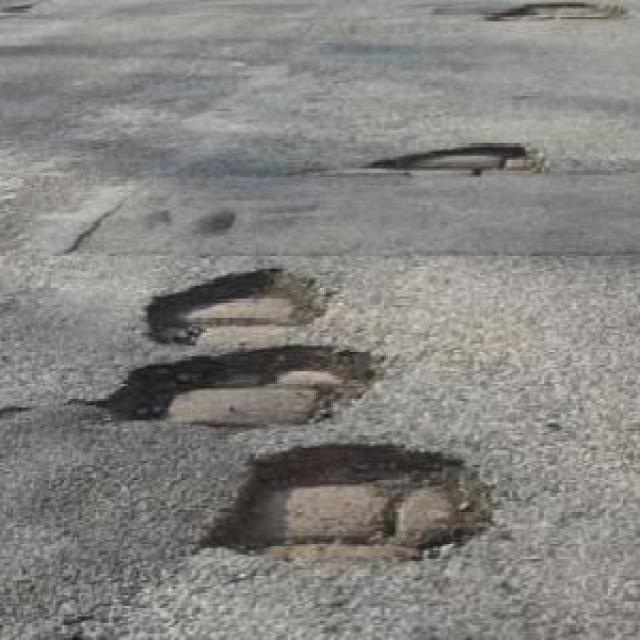pothole: (189, 437, 514, 584), (74, 348, 402, 443), (131, 258, 339, 354), (351, 122, 561, 198), (452, 0, 640, 35), (0, 0, 46, 28), (3, 398, 36, 420)
